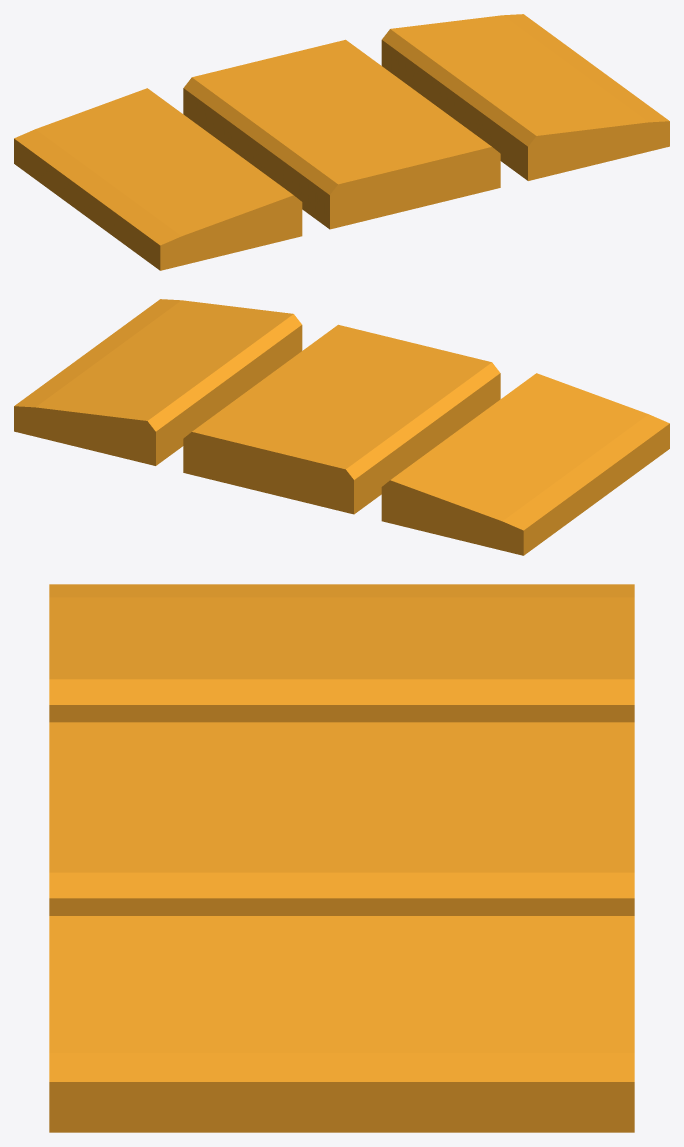
The model's file is SM_Train_Sidewalk_B.fbx.
3 renders of one model, top to bottom at view 1: azimuth 30°, elevation 25°; view 2: azimuth 150°, elevation 25°; view 3: azimuth 270°, elevation 25°, orthographic. The views are drawn at different scales.
Parts seen in each view (by area): view 1: SM_Train_Sidewalk_B; view 2: SM_Train_Sidewalk_B; view 3: SM_Train_Sidewalk_B.
Part boxes in pixels (box(x1,y1,x2,y2)): SM_Train_Sidewalk_B: box(14, 14, 669, 270); SM_Train_Sidewalk_B: box(14, 299, 669, 555); SM_Train_Sidewalk_B: box(49, 584, 634, 1132).
Bounding box in the file's own units: 4 × 0.3233 × 1.99.
